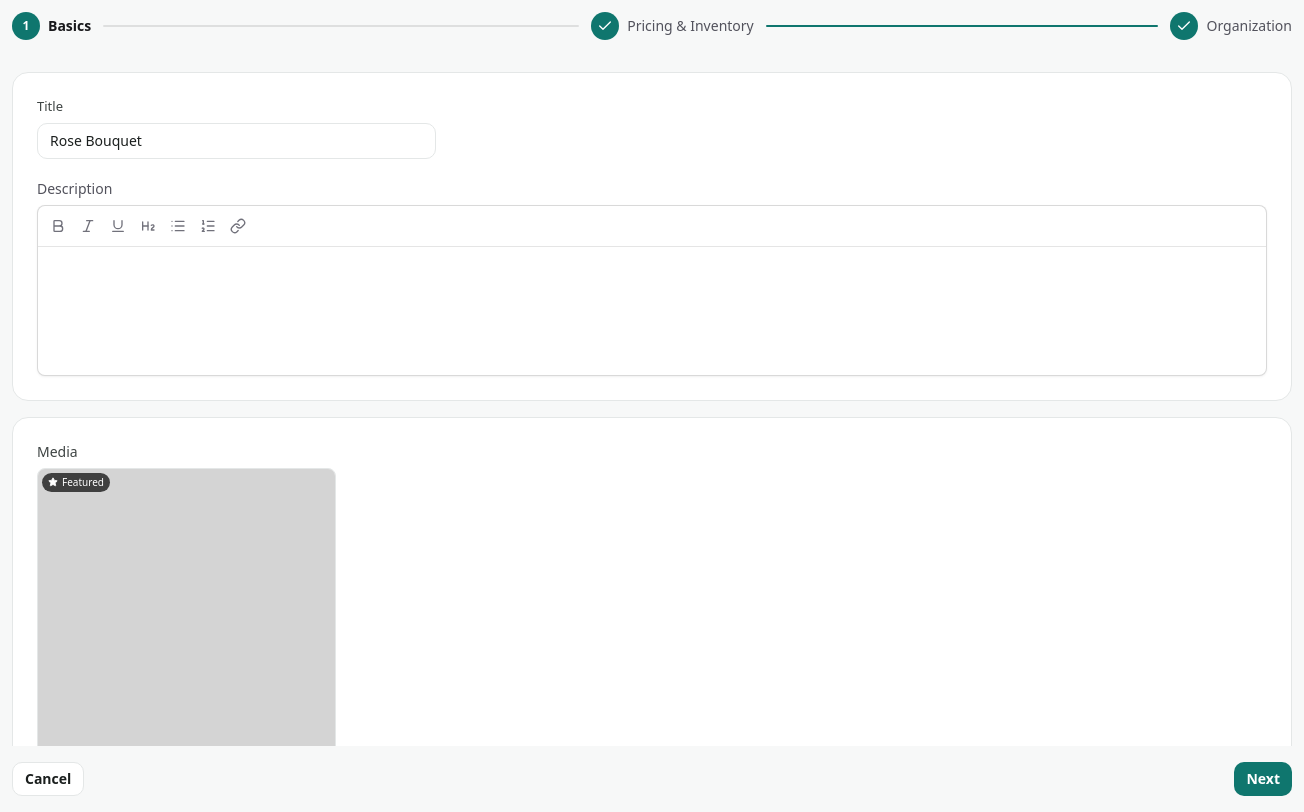
ProductForm wizard › editing a usesIngredients:true product opens Step 2 with Recipe expanded and Inventory hidden
Click the button "Pricing & Inventory": (672, 26) [591,12,754,40]
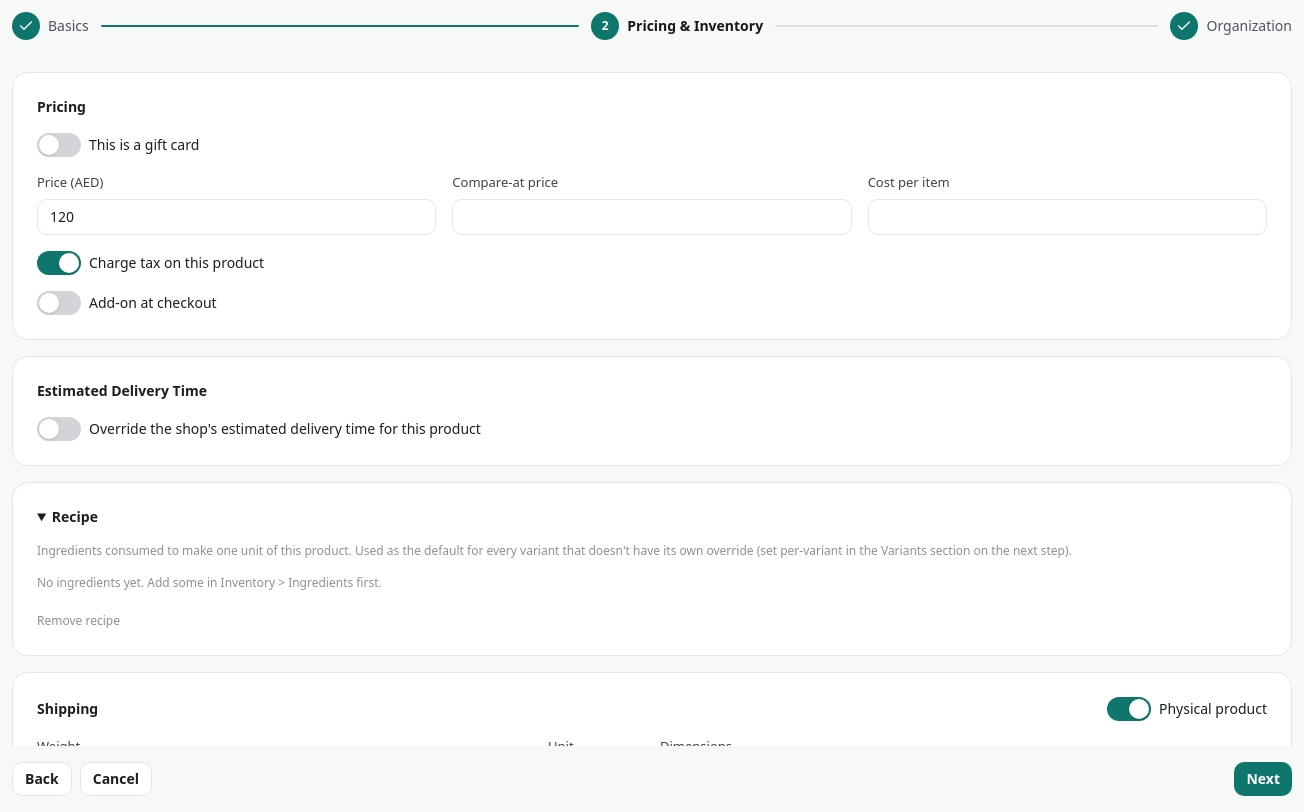
Expected: the button "Remove recipe" is shown, [37,612,120,628]
